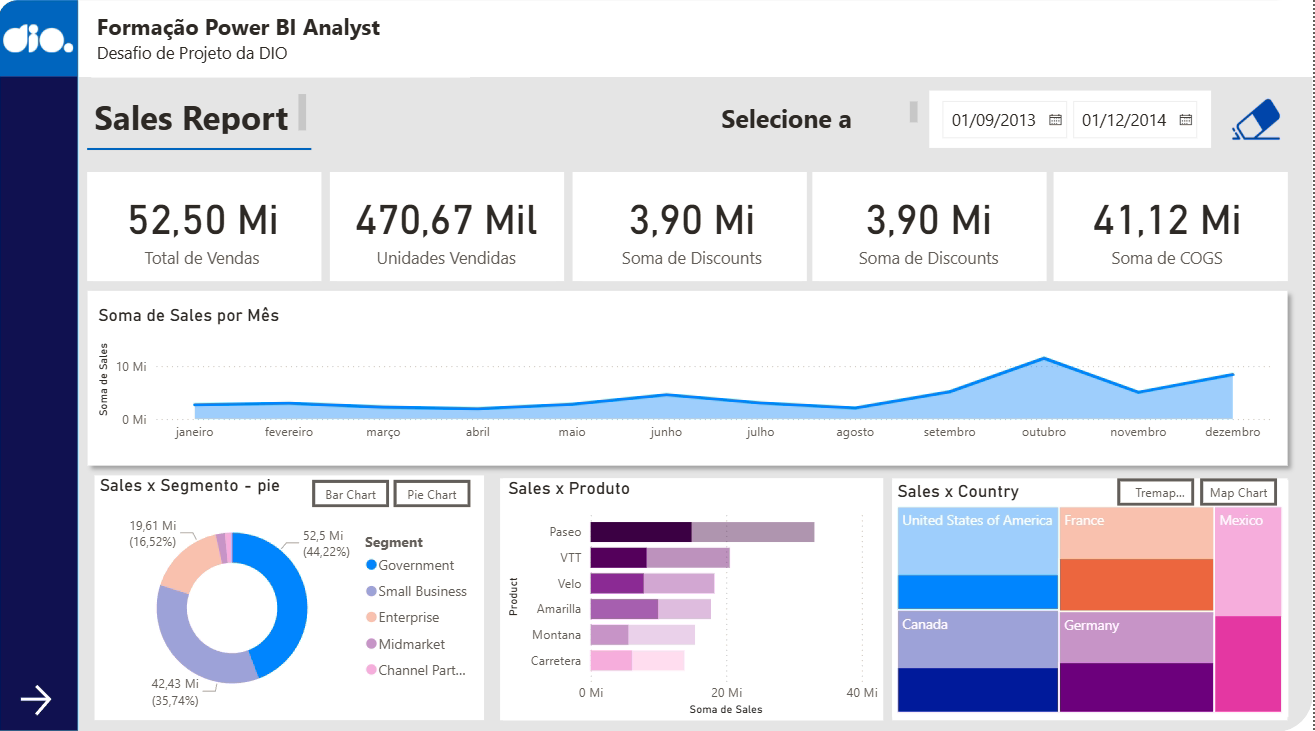

Layout of this report page (visuals, bound fields, positions):
{"tool":"powerbi","page":{"name":"Página 1","canvas":[1280,720],"ordinal":0},"visuals":[{"type":"shape","box":[10,12.8,1270,707],"z":0},{"type":"slicer","fields":{"Values":["financials.Date"]},"box":[909.4,99.8,272.2,55.6],"z":0,"group":"g2"},{"type":"shape","box":[95.5,139.7,216.7,32.8],"z":0,"group":"g5"},{"type":"shape","box":[95.5,179.2,226.5,105.7],"z":0,"group":"g1"},{"type":"donutChart","title":"Sales x Segmento - pie","fields":{"Y":["Sum(financials. Sales)"],"Category":["financials.Segment"]},"box":[102.6,471.8,376.3,236.6],"z":0,"group":"g4"},{"type":"map","title":"Sales x Country","fields":{"Category":["financials.Country"],"Size":["Sum(financials. Sales)"]},"box":[873.8,476,382,228.1],"z":0,"group":"g3"},{"type":"actionButton","title":"Botão - bar","box":[312.8,476.4,74.5,26.6],"z":500,"group":"g4"},{"type":"actionButton","title":"Botão -pie","box":[392.6,476.4,74.5,26.6],"z":750,"group":"g4"},{"type":"shape","box":[10.1,13.4,77.2,706.3],"z":1000},{"type":"textbox","box":[96.9,98.4,215.2,48.5],"z":1000,"group":"g5"},{"type":"textbox","box":[704.1,105.5,199.6,45.6],"z":1000,"group":"g2"},{"type":"shape","box":[330.2,179.2,226.5,105.7],"z":1000,"group":"g1"},{"type":"treemap","title":"Sales x Country","fields":{"Group":["financials.Country"],"Values":["Sum(financials. Sales)"]},"box":[873.8,477.5,382,228.1],"z":1000,"group":"g3"},{"type":"actionButton","title":"Botão - map","box":[1170.8,475.2,74.5,26.6],"z":1250,"group":"g3"},{"type":"actionButton","title":"Botão - tremap","box":[1090.9,475.2,74.5,26.6],"z":1500,"group":"g3"},{"type":"shape","box":[10.1,13.4,77.2,73.8],"z":2000},{"type":"actionButton","box":[1195.9,104.1,59.9,51.3],"z":2000,"group":"g2"},{"type":"shape","box":[565.1,179.2,226.5,105.7],"z":2000,"group":"g1"},{"type":"image","title":"logo_dio","box":[10.1,18.5,77.2,62.1],"z":3000},{"type":"image","title":"clean","box":[1195.9,99.8,59.9,55.6],"z":3000,"group":"g2"},{"type":"shape","box":[796.6,179.2,226.5,105.7],"z":3000,"group":"g1"},{"type":"shape","box":[86.9,12.8,1193.1,74.1],"z":4000},{"type":"shape","box":[1029.7,179.2,226.5,105.7],"z":4000,"group":"g1"},{"type":"textbox","box":[100.7,18.5,365.7,68.8],"z":5000},{"type":"card","fields":{"Values":["Sum(financials. Sales)"]},"box":[101.2,179.6,211,105.5],"z":5000,"group":"g1"},{"type":"group","id":"g1","title":"Cartões","box":[95.5,179.2,1160.7,105.9],"z":6000},{"type":"card","fields":{"Values":["Sum(financials.Units Sold)"]},"box":[337.9,179.6,211,105.5],"z":6000,"group":"g1"},{"type":"card","fields":{"Values":["Sum(financials.Discounts)"]},"box":[804,179.6,211,105.5],"z":7000,"group":"g1"},{"type":"shape","box":[86.9,285.1,1177.4,186.7],"z":7000},{"type":"card","fields":{"Values":["Sum(financials.Discounts)"]},"box":[574.5,179.6,211,105.5],"z":8000,"group":"g1"},{"type":"shape","box":[494.6,474.7,370.6,233.8],"z":8000},{"type":"card","fields":{"Values":["Sum(financials.COGS)"]},"box":[1033.4,179.6,211,105.5],"z":9000,"group":"g1"},{"type":"shape","box":[873.8,474.7,382,233.8],"z":9000},{"type":"areaChart","fields":{"Category":["financials.Date.Variation.Hierarquia de datas.Mês"],"Y":["Sum(financials. Sales)"]},"box":[101.2,307.9,1143.2,139.7],"z":10000},{"type":"clusteredBarChart","title":"Sales x Produto","fields":{"Y":["Sum(financials. Sales)"],"Category":["financials.Product"]},"box":[498.3,474.5,366.9,233.8],"z":11000},{"type":"group","id":"g2","title":"Filtro por data","box":[704.1,99.8,551.6,55.6],"z":12000},{"type":"group","id":"g3","title":"Sales x país","box":[873.8,475.2,382,230.3],"z":13000},{"type":"group","id":"g4","title":"Sales x Segmento","box":[96,471.8,382.9,236.8],"z":14000},{"type":"group","id":"g5","title":"Title report","box":[95.5,98.4,216.7,74.1],"z":15000},{"type":"actionButton","box":[25.9,669,48.8,39.6],"z":16000}]}

Visuals, with their boxes on the page's 1280x720 design canvas (x1, y1, x2, y2). These are canvas units, not pixel positions in the 1315x731 screenshot, which may show the page scaled, cropped or inside an application window:
shape: <bbox>10, 13, 1280, 720</bbox>
slicer - financials.Date: <bbox>909, 100, 1182, 155</bbox>
shape: <bbox>96, 140, 312, 172</bbox>
shape: <bbox>96, 179, 322, 285</bbox>
"Sales x Segmento - pie" donutChart: <bbox>103, 472, 479, 708</bbox>
"Sales x Country" map: <bbox>874, 476, 1256, 704</bbox>
"Botão - bar" actionButton: <bbox>313, 476, 387, 503</bbox>
"Botão -pie" actionButton: <bbox>393, 476, 467, 503</bbox>
shape: <bbox>10, 13, 87, 720</bbox>
textbox: <bbox>97, 98, 312, 147</bbox>
textbox: <bbox>704, 106, 904, 151</bbox>
shape: <bbox>330, 179, 557, 285</bbox>
"Sales x Country" treemap: <bbox>874, 478, 1256, 706</bbox>
"Botão - map" actionButton: <bbox>1171, 475, 1245, 502</bbox>
"Botão - tremap" actionButton: <bbox>1091, 475, 1165, 502</bbox>
shape: <bbox>10, 13, 87, 87</bbox>
actionButton: <bbox>1196, 104, 1256, 155</bbox>
shape: <bbox>565, 179, 792, 285</bbox>
"logo_dio" image: <bbox>10, 18, 87, 81</bbox>
"clean" image: <bbox>1196, 100, 1256, 155</bbox>
shape: <bbox>797, 179, 1023, 285</bbox>
shape: <bbox>87, 13, 1280, 87</bbox>
shape: <bbox>1030, 179, 1256, 285</bbox>
textbox: <bbox>101, 18, 466, 87</bbox>
card - Sum(financials. Sales): <bbox>101, 180, 312, 285</bbox>
"Cartões" group: <bbox>96, 179, 1256, 285</bbox>
card - Sum(financials.Units Sold): <bbox>338, 180, 549, 285</bbox>
card - Sum(financials.Discounts): <bbox>804, 180, 1015, 285</bbox>
shape: <bbox>87, 285, 1264, 472</bbox>
card - Sum(financials.Discounts): <bbox>574, 180, 786, 285</bbox>
shape: <bbox>495, 475, 865, 708</bbox>
card - Sum(financials.COGS): <bbox>1033, 180, 1244, 285</bbox>
shape: <bbox>874, 475, 1256, 708</bbox>
areaChart - financials.Date.Variation.Hierarquia de datas.Mês x Sum(financials. Sales): <bbox>101, 308, 1244, 448</bbox>
"Sales x Produto" clusteredBarChart: <bbox>498, 474, 865, 708</bbox>
"Filtro por data" group: <bbox>704, 100, 1256, 155</bbox>
"Sales x país" group: <bbox>874, 475, 1256, 706</bbox>
"Sales x Segmento" group: <bbox>96, 472, 479, 709</bbox>
"Title report" group: <bbox>96, 98, 312, 172</bbox>
actionButton: <bbox>26, 669, 75, 709</bbox>
